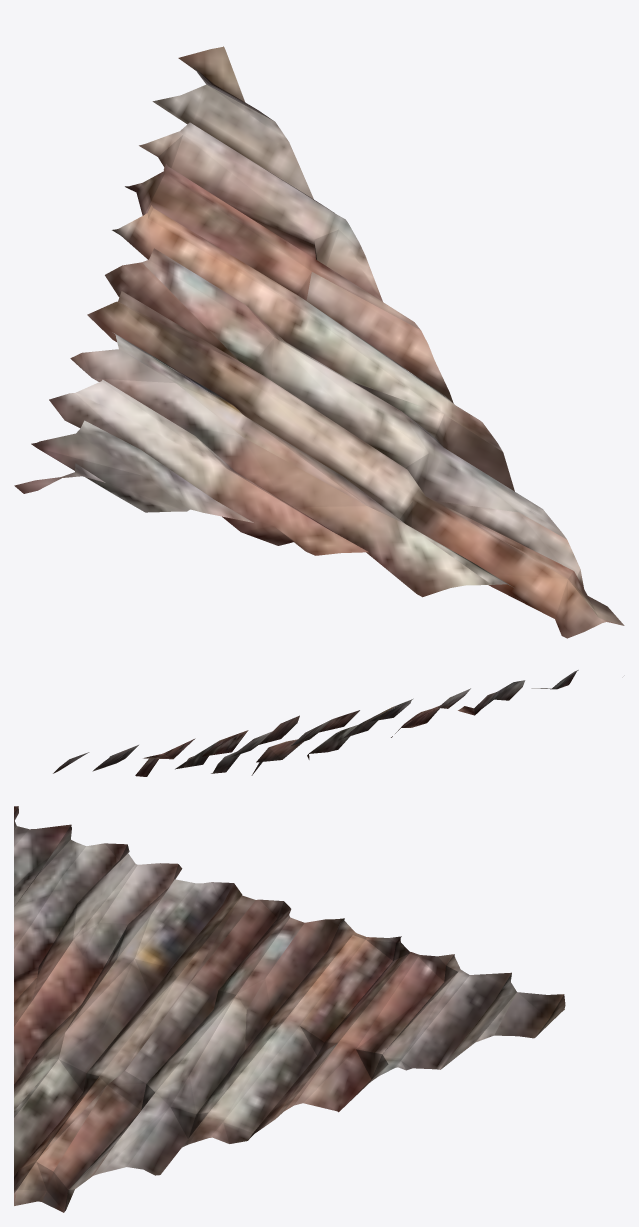
3 renders of one model, top to bottom at view 1: azimuth 30°, elevation 25°; view 2: azimuth 150°, elevation 25°; view 3: azimuth 270°, elevation 25°, orthographic. The views are drawn at different scales.
Size of the model in its own units: 1.41 by 0.6557 by 1.79.
Materials: 1 (1 with a texture image).
